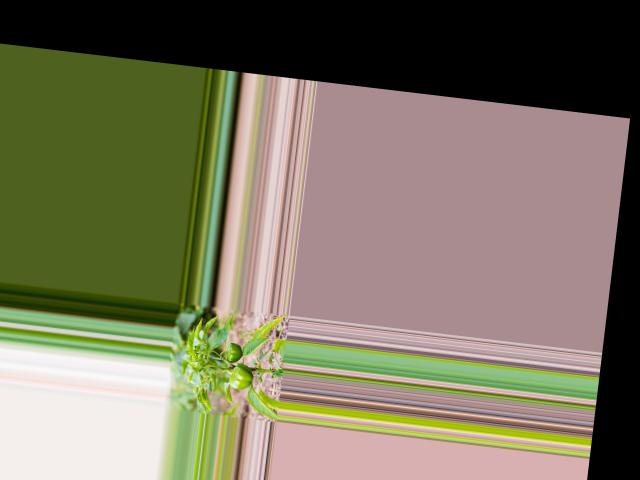bell_pepper: (222, 341, 245, 364)
